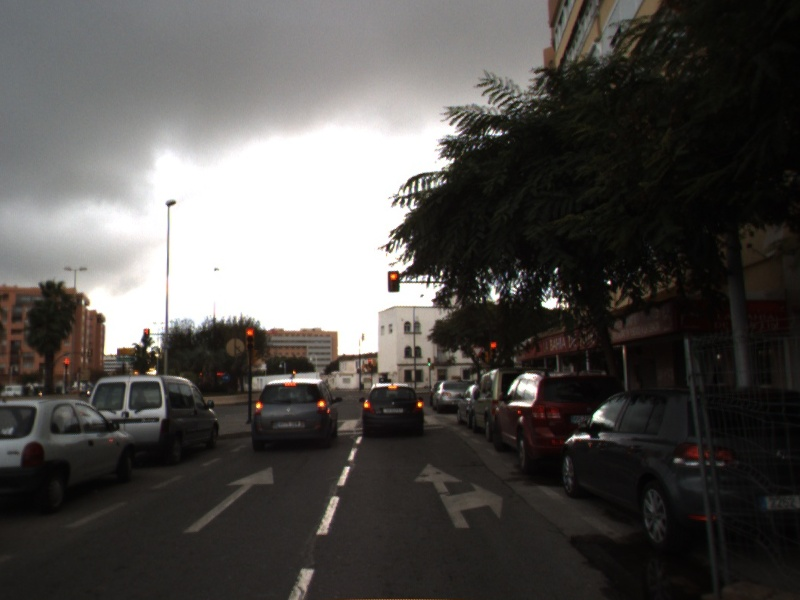STRAIGHT: (182, 465, 276, 534)
STRAIGHT_RIGHT: (413, 462, 504, 529)
